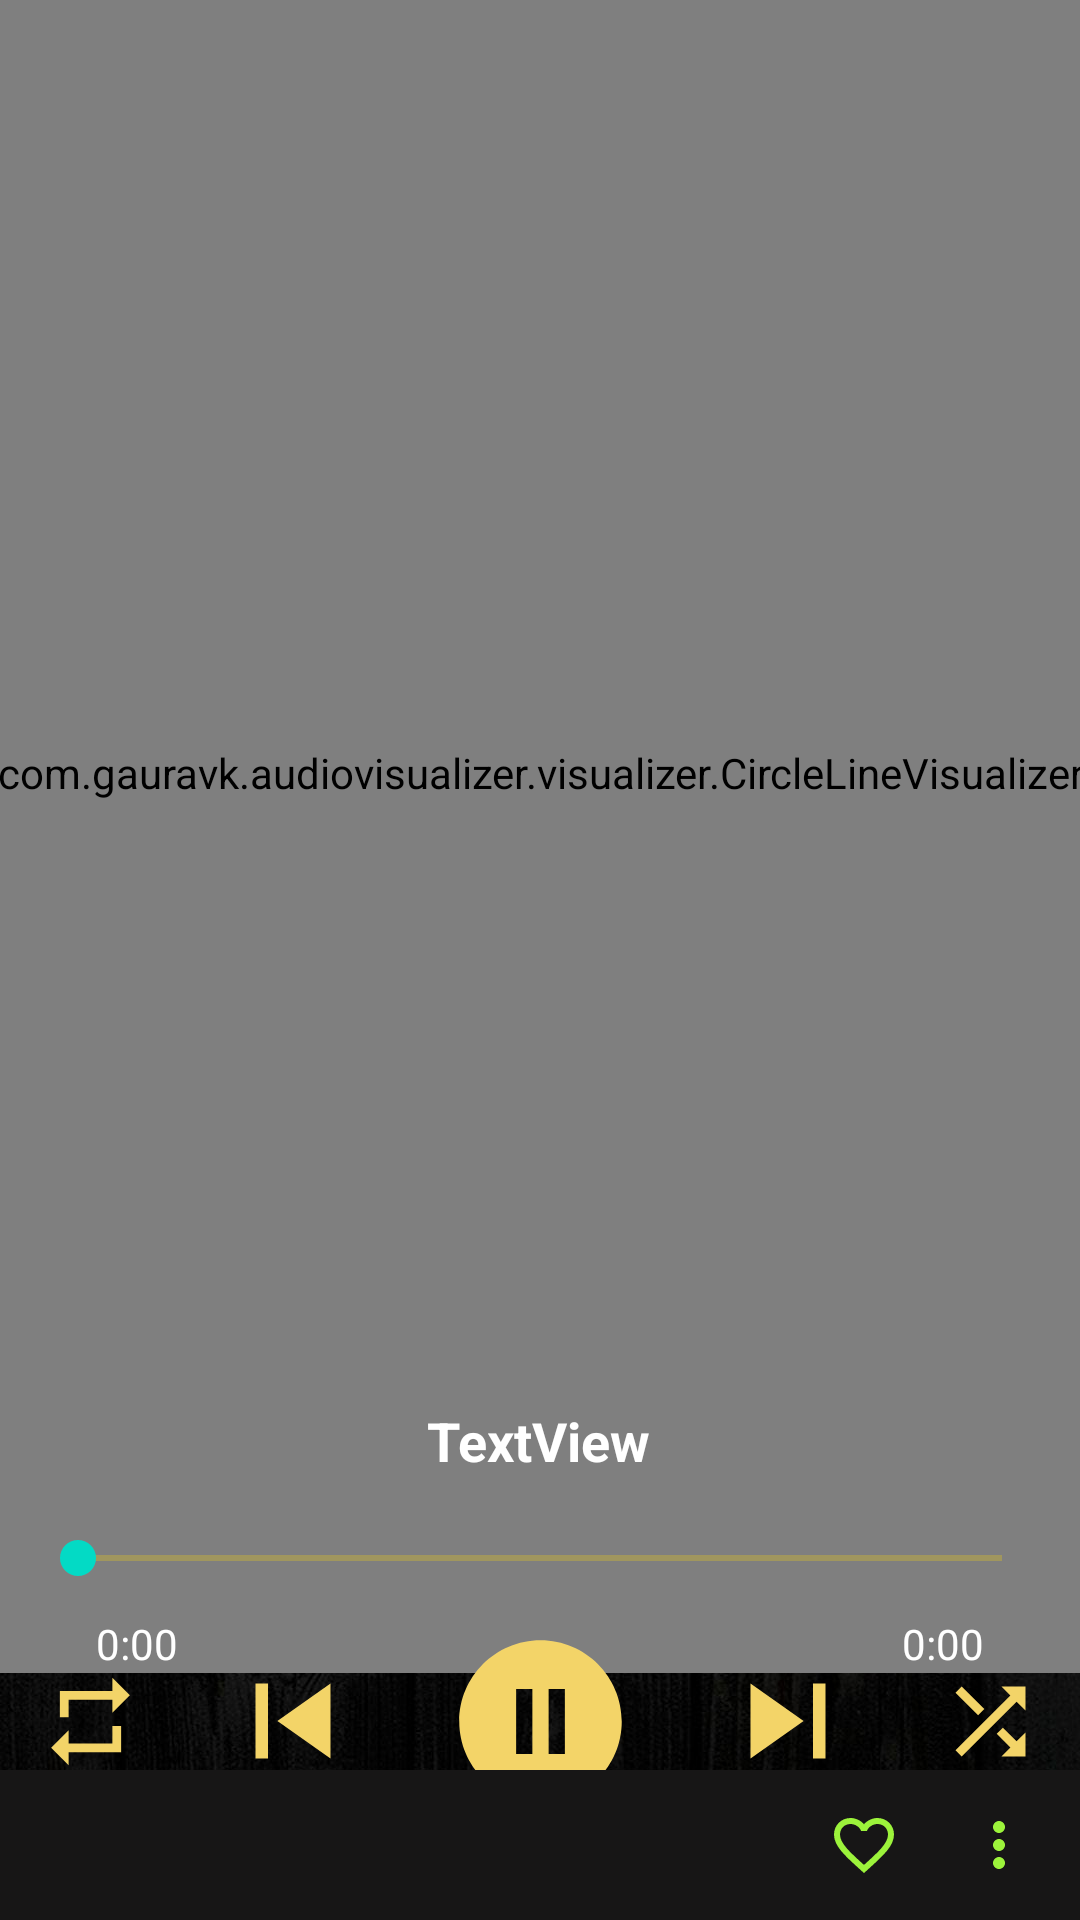

Where to tap for icons on this 1080w x 1920h app screen, as (x,y):
favorite: (864,1845)
more: (999,1845)
pause: (540,1697)
